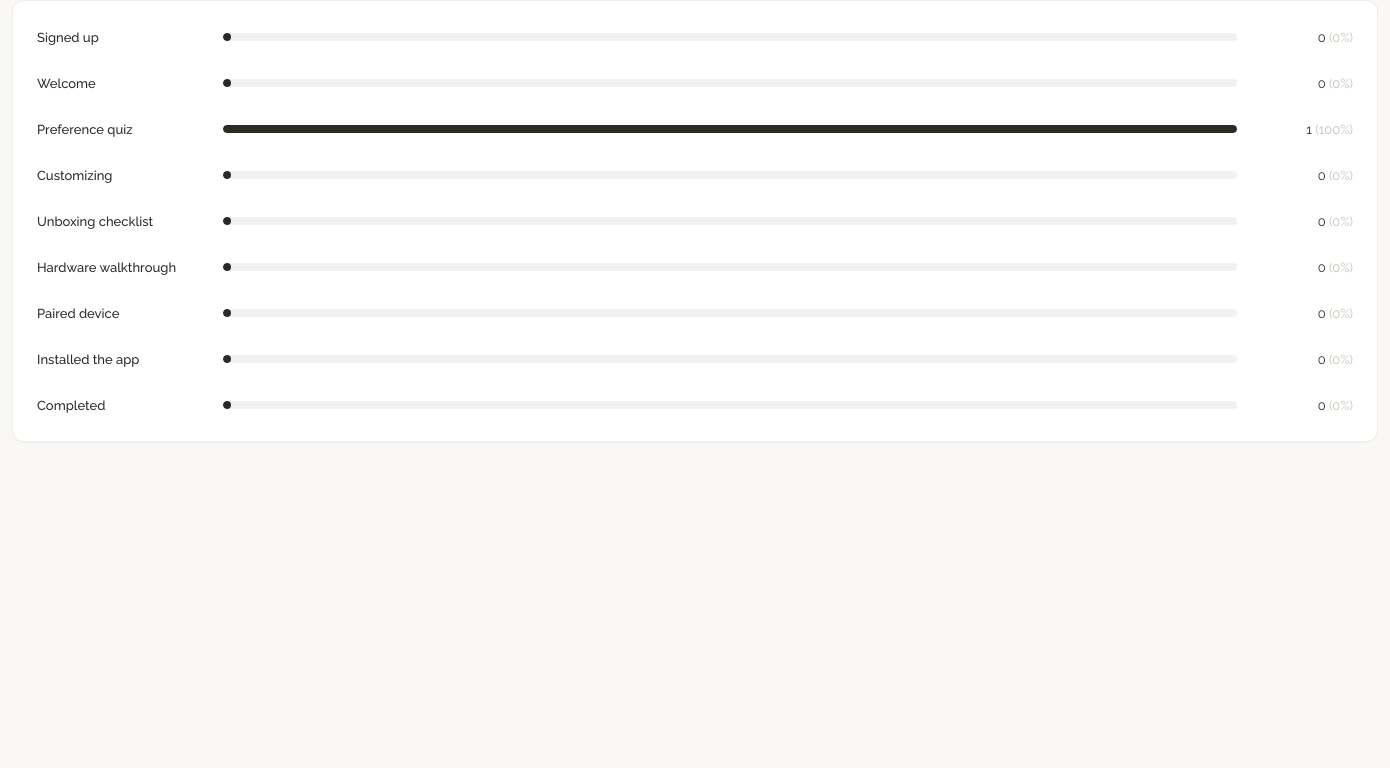
Scenario: OnboardingTab › shows "Not tracked" for customers mid-setup before step times existed
Click the button "Preference quiz 1 (100%)": (695, 129) [29,107,1361,151]
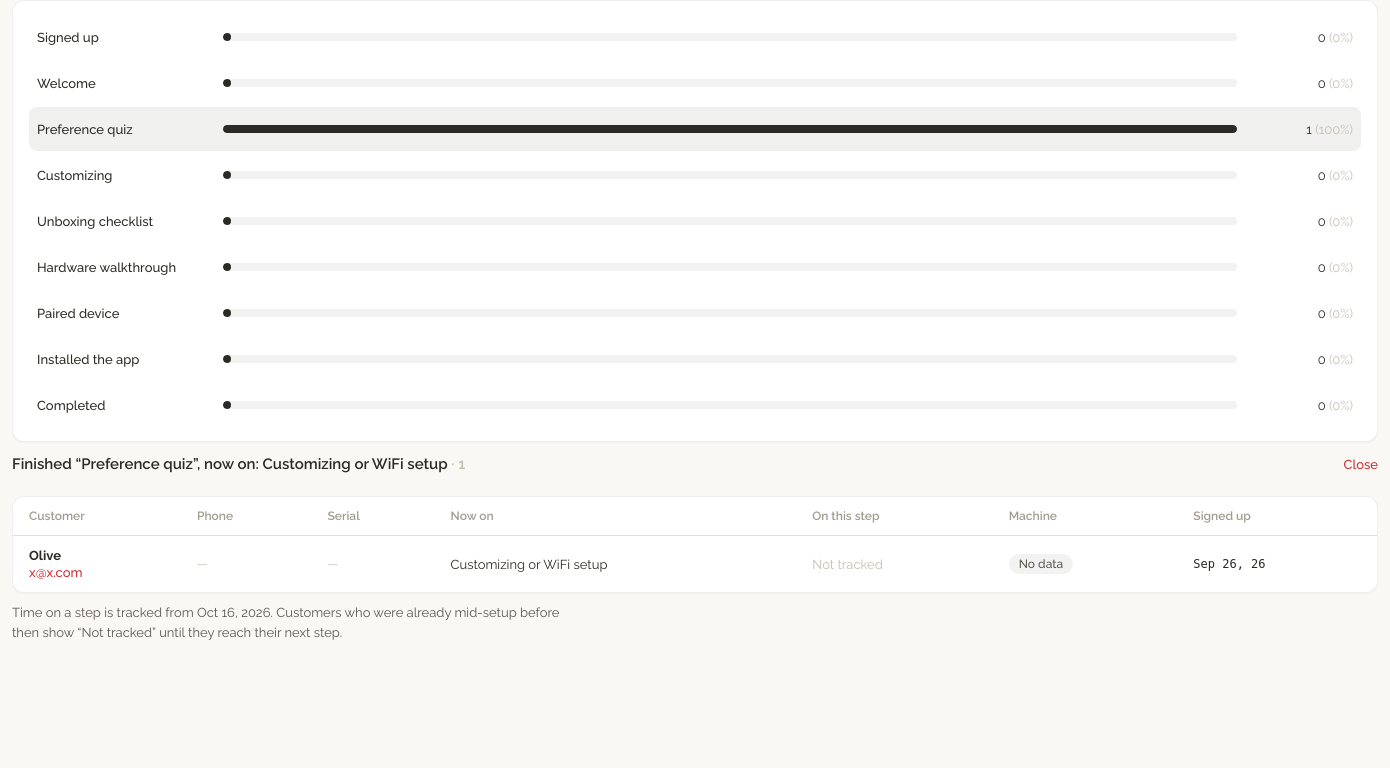
Check: the text "Not tracked" is shown, box [812,556,883,572]
